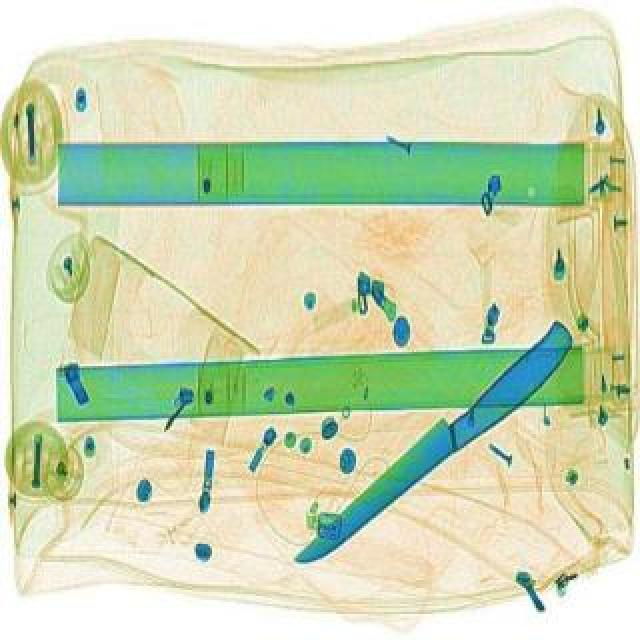knife: (282, 318, 586, 580)
